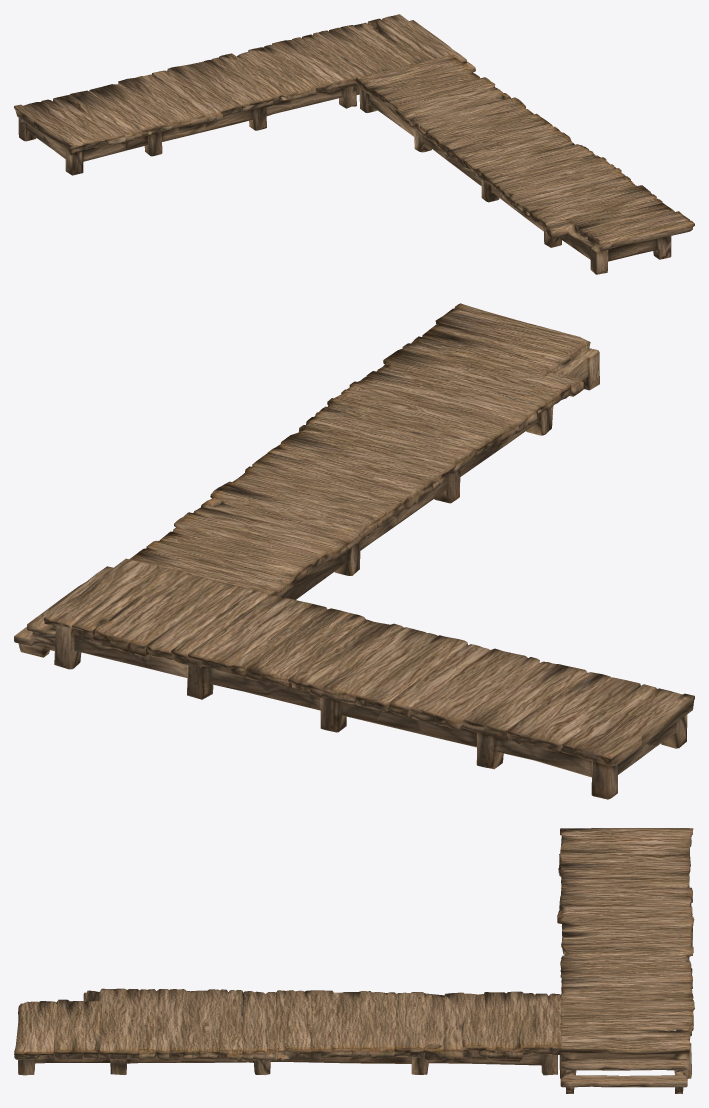
Rendered from Saloon_Porch_Deck.glb.
The picture shows the model from 3 angles, top to bottom: view 1: azimuth 30°, elevation 25°; view 2: azimuth 150°, elevation 25°; view 3: azimuth 270°, elevation 25°; orthographic projection. The views are drawn at different scales.
Visible parts, largest first — view 1: tripo_node_83642212-94ce-4ce0-97aa-45bd907f09f3; view 2: tripo_node_83642212-94ce-4ce0-97aa-45bd907f09f3; view 3: tripo_node_83642212-94ce-4ce0-97aa-45bd907f09f3.
Boxes of the visible parts, box(x1,y1,x2,y2) form: tripo_node_83642212-94ce-4ce0-97aa-45bd907f09f3: box(14, 14, 694, 274); tripo_node_83642212-94ce-4ce0-97aa-45bd907f09f3: box(14, 303, 694, 799); tripo_node_83642212-94ce-4ce0-97aa-45bd907f09f3: box(14, 828, 694, 1093).
Bounding box in the file's own units: 0.7911 × 0.0571 × 0.9805.
1 material, 1 textured.
